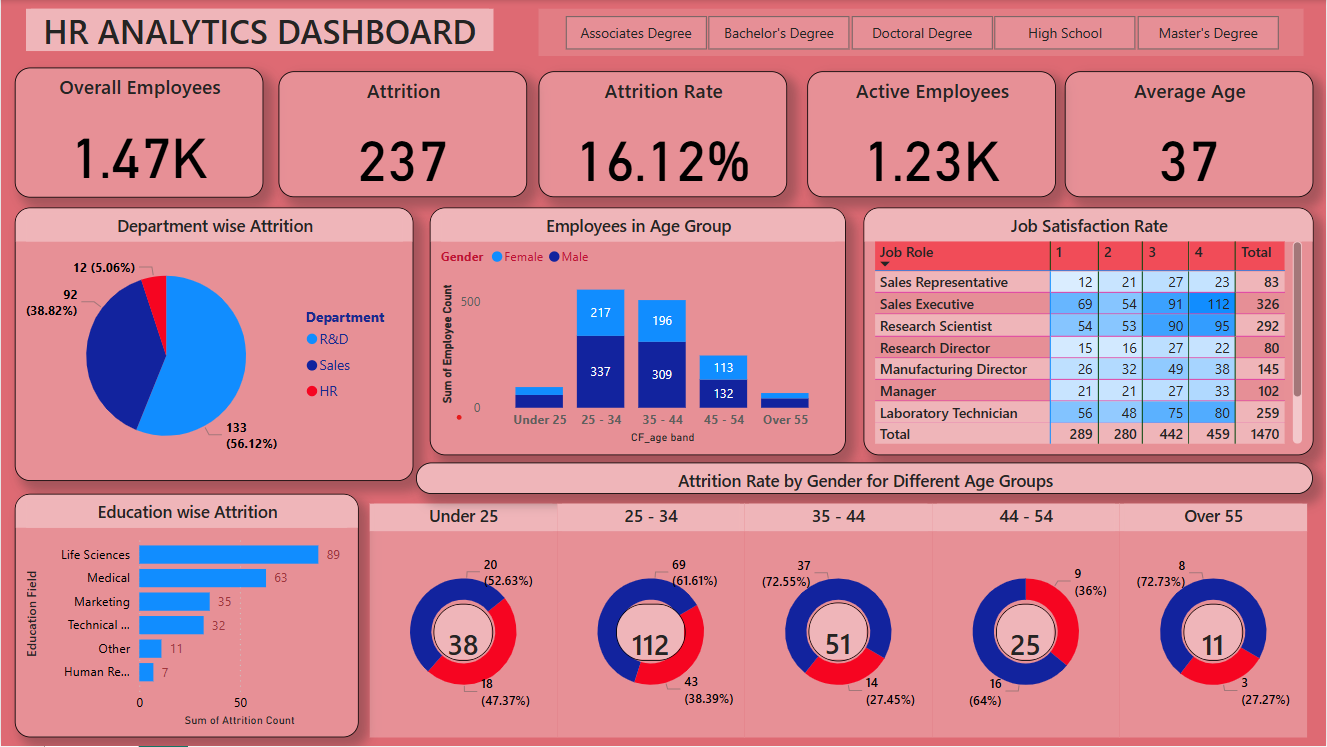

Layout of this report page (visuals, bound fields, positions):
{"tool":"powerbi","page":{"name":"Page 1","canvas":[1280,720],"ordinal":0},"visuals":[{"type":"cardVisual","title":"Overall Employees","fields":{"Data":["Sum(HR data.Employee Count)"]},"box":[13.3,65.1,240.1,125.5],"z":0},{"type":"cardVisual","title":"Attrition","fields":{"Data":["Sum(HR data.Attrition Count)"]},"box":[267.8,68.8,240.1,121.9],"z":1000},{"type":"cardVisual","title":"Attrition Rate","fields":{"Data":["HR data.Attrition Rate"]},"box":[518.8,68.8,240.1,121.9],"z":2000},{"type":"cardVisual","title":"Active Employees","fields":{"Data":["HR data.Active Employees"]},"box":[778.2,68.8,240.1,121.9],"z":3000},{"type":"cardVisual","title":"Average Age","fields":{"Data":["Avg(HR data.Age)"]},"box":[1026.7,68.8,240.1,121.9],"z":4000},{"type":"pieChart","title":"Department wise Attrition","fields":{"Category":["HR data.Department"],"Y":["Sum(HR data.Attrition Count)"]},"box":[13.3,200.3,384.9,264.2],"z":5000},{"type":"columnChart","title":"Employees in Age Group","fields":{"Category":["HR data.CF_age band"],"Y":["Sum(HR data.Employee Count)"],"Series":["HR data.Gender"]},"box":[413.8,200.3,401.7,238.9],"z":6000},{"type":"pivotTable","title":"Job Satisfaction Rate","fields":{"Rows":["HR data.Job Role"],"Columns":["HR data.Job Satisfaction"],"Values":["Sum(HR data.Employee Count)"]},"box":[832.4,200.3,434.3,238.9],"z":7000},{"type":"barChart","title":"Education wise Attrition ","fields":{"Category":["HR data.Education Field"],"Y":["Sum(HR data.Attrition Count)"]},"box":[13.3,476.5,331.8,235.3],"z":8000},{"type":"donutChart","title":"Under 25","fields":{"Y":["Sum(HR data.Attrition Count)"],"Category":["HR data.Gender"],"Series":["HR data.CF_age band"]},"box":[355.9,486.2,181,225.6],"z":9000},{"type":"textbox","title":"Attrition Rate by Gender for Different Age Groups ","box":[400.7,446,865.9,30.2],"z":10000},{"type":"donutChart","title":"25 - 34","fields":{"Y":["Sum(HR data.Attrition Count)"],"Category":["HR data.Gender"],"Series":["HR data.CF_age band"]},"box":[536.9,486.2,181,225.6],"z":11000},{"type":"donutChart","title":"35 - 44","fields":{"Y":["Sum(HR data.Attrition Count)"],"Category":["HR data.Gender"],"Series":["HR data.CF_age band"]},"box":[717.8,486.2,181,225.6],"z":12000},{"type":"donutChart","title":"44 - 54","fields":{"Y":["Sum(HR data.Attrition Count)"],"Category":["HR data.Gender"],"Series":["HR data.CF_age band"]},"box":[898.8,486.2,181,225.6],"z":13000},{"type":"donutChart","title":"Over 55","fields":{"Y":["Sum(HR data.Attrition Count)"],"Category":["HR data.Gender"],"Series":["HR data.CF_age band"]},"box":[1079.8,486.2,181,225.6],"z":14000},{"type":"cardVisual","fields":{"Data":["Sum(HR data.Attrition Count)"]},"box":[417.4,582.7,57.9,55.5],"z":16000},{"type":"cardVisual","fields":{"Data":["Sum(HR data.Attrition Count)"]},"box":[593.6,582.7,67.6,55.5],"z":16001},{"type":"cardVisual","fields":{"Data":["Sum(HR data.Attrition Count)"]},"box":[779.4,581.5,57.9,56.7],"z":16002},{"type":"cardVisual","fields":{"Data":["Sum(HR data.Attrition Count)"]},"box":[960.3,582.7,57.9,55.5],"z":16003},{"type":"cardVisual","fields":{"Data":["Sum(HR data.Attrition Count)"]},"box":[1141.3,582.7,57.9,55.5],"z":16004},{"type":"textbox","title":"HR ANALYTICS DASHBOARD","box":[24.1,8.4,451.2,41],"z":16005},{"type":"slicer","fields":{"Values":["HR data.Education"]},"box":[518.8,8.4,738.3,45.8],"z":16006}]}

Visuals, with their boxes in screenshot pixels (x1, y1, x2, y2), scaled from the page's 1280x720 canvas onto the 1327x747 screenshot:
"Overall Employees" cardVisual: [14, 68, 263, 198]
"Attrition" cardVisual: [278, 71, 527, 198]
"Attrition Rate" cardVisual: [538, 71, 787, 198]
"Active Employees" cardVisual: [807, 71, 1056, 198]
"Average Age" cardVisual: [1064, 71, 1313, 198]
"Department wise Attrition" pieChart: [14, 208, 413, 482]
"Employees in Age Group" columnChart: [429, 208, 845, 456]
"Job Satisfaction Rate" pivotTable: [863, 208, 1313, 456]
"Education wise Attrition " barChart: [14, 494, 358, 738]
"Under 25" donutChart: [369, 504, 557, 738]
"Attrition Rate by Gender for Different Age Groups " textbox: [415, 463, 1313, 494]
"25 - 34" donutChart: [557, 504, 744, 738]
"35 - 44" donutChart: [744, 504, 932, 738]
"44 - 54" donutChart: [932, 504, 1119, 738]
"Over 55" donutChart: [1119, 504, 1307, 738]
cardVisual - Sum(HR data.Attrition Count): [433, 605, 493, 662]
cardVisual - Sum(HR data.Attrition Count): [615, 605, 685, 662]
cardVisual - Sum(HR data.Attrition Count): [808, 603, 868, 662]
cardVisual - Sum(HR data.Attrition Count): [996, 605, 1056, 662]
cardVisual - Sum(HR data.Attrition Count): [1183, 605, 1243, 662]
"HR ANALYTICS DASHBOARD" textbox: [25, 9, 493, 51]
slicer - HR data.Education: [538, 9, 1303, 56]
